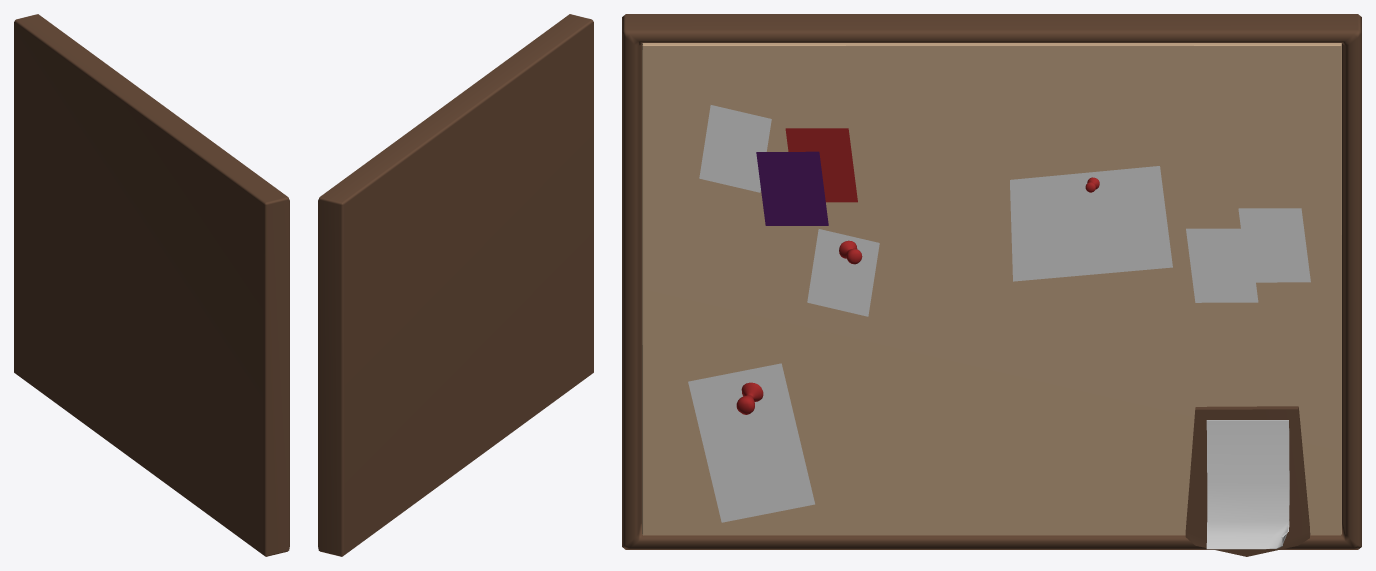
Rendered from geo_pinboard.fbx.
3 views of the same model, side by side, from view 1: azimuth 30°, elevation 25°; view 2: azimuth 150°, elevation 25°; view 3: azimuth 270°, elevation 25° (orthographic). The views are drawn at different scales.
Visible parts, largest first — view 1: geo_pinboard; view 2: geo_pinboard; view 3: geo_pinboard.
Boxes of the visible parts, box(x1,y1,x2,y2) form: geo_pinboard: box(14, 14, 289, 556); geo_pinboard: box(318, 14, 593, 556); geo_pinboard: box(622, 14, 1361, 556).
Bounding box in the file's own units: 22.42 × 126 × 162.
